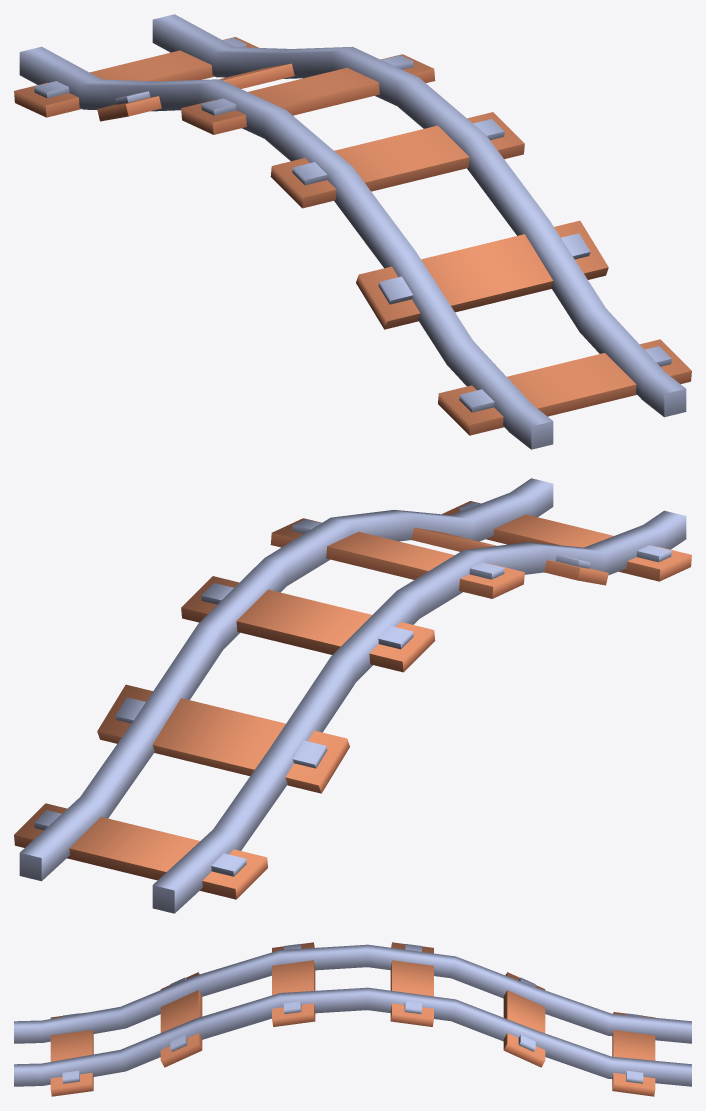
File: kenney-train-railroad-straight-bump-up.glb
3 renders of one model, top to bottom at view 1: azimuth 30°, elevation 25°; view 2: azimuth 150°, elevation 25°; view 3: azimuth 270°, elevation 25°, orthographic. The views are drawn at different scales.
Parts seen in each view (by area): view 1: railroad-straight-bump-up; view 2: railroad-straight-bump-up; view 3: railroad-straight-bump-up.
Part boxes in pixels (x1,y1,x2,y2): railroad-straight-bump-up: [14, 14, 691, 449]; railroad-straight-bump-up: [14, 478, 691, 913]; railroad-straight-bump-up: [14, 942, 691, 1096].
Size of the model in its own units: 1 by 0.5986 by 4.
Materials: 1 (1 with a texture image).
